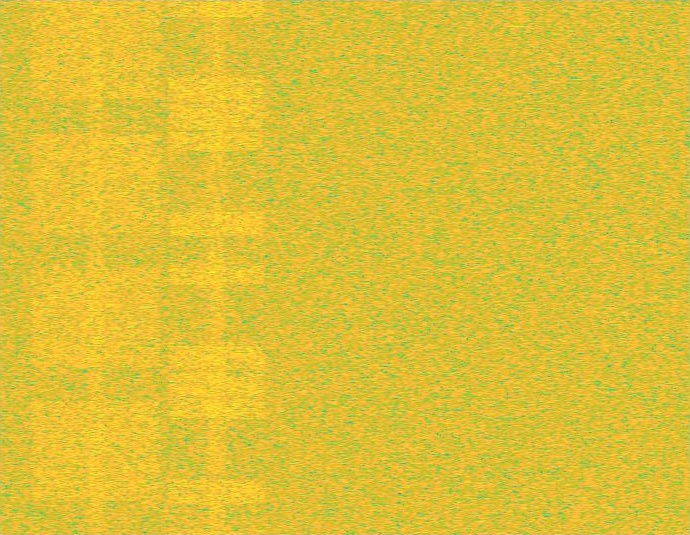5G: (27, 0, 165, 534)
DSSS: (205, 0, 228, 534), (87, 0, 105, 534)
LTE: (165, 0, 268, 534)
Radar: (510, 0, 524, 534)
